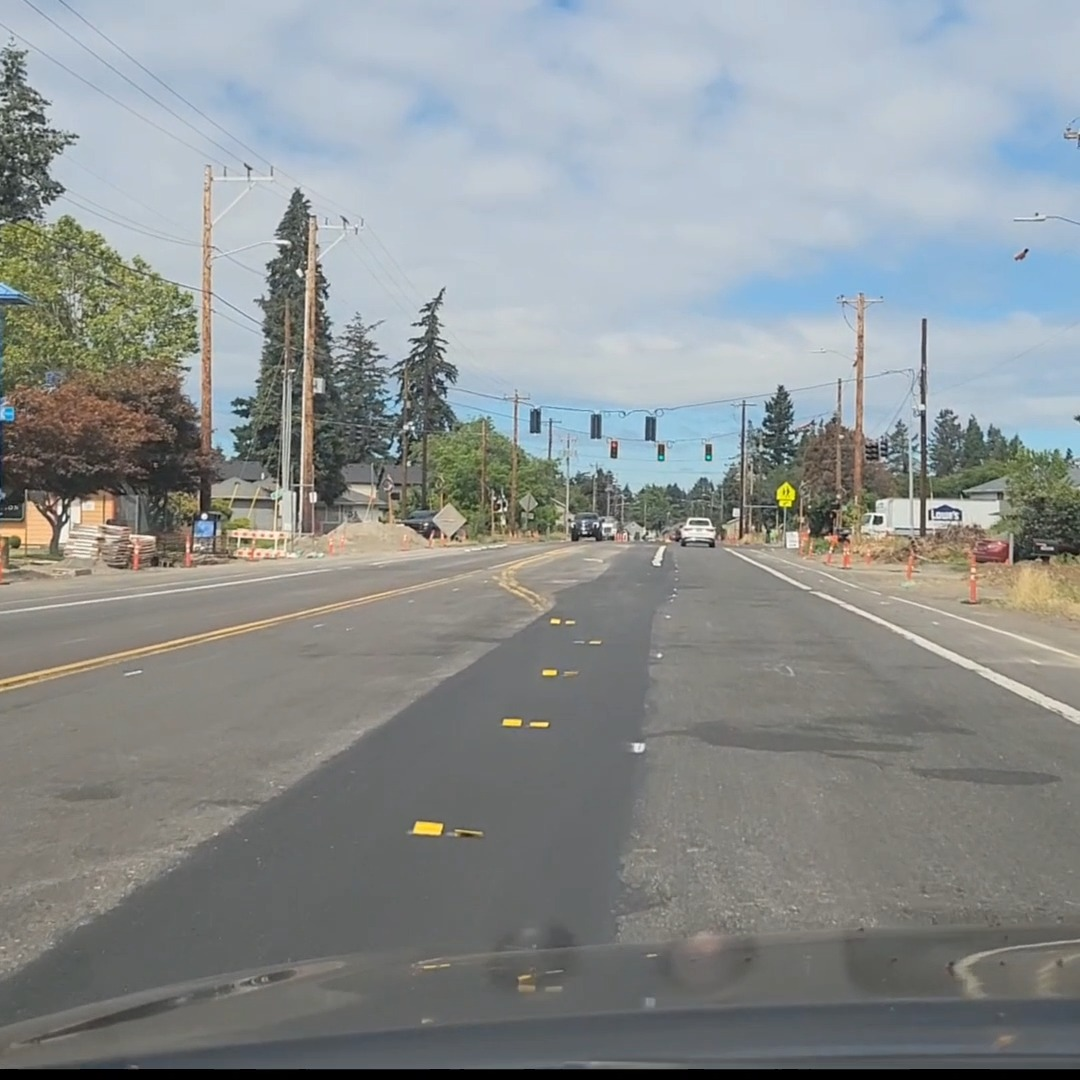car: (1022, 534, 1077, 563), (678, 517, 717, 547), (568, 511, 601, 541), (596, 516, 616, 540)
crosswalk-sign: (775, 481, 795, 508)
delineator: (966, 554, 980, 604), (126, 539, 144, 575), (245, 535, 261, 565), (904, 548, 915, 582), (824, 538, 835, 564), (0, 544, 7, 583), (841, 542, 851, 568), (184, 536, 192, 566), (863, 542, 873, 564), (400, 531, 411, 550), (807, 535, 814, 556), (327, 535, 335, 553), (246, 545, 254, 559), (427, 531, 434, 547), (441, 532, 447, 546)
